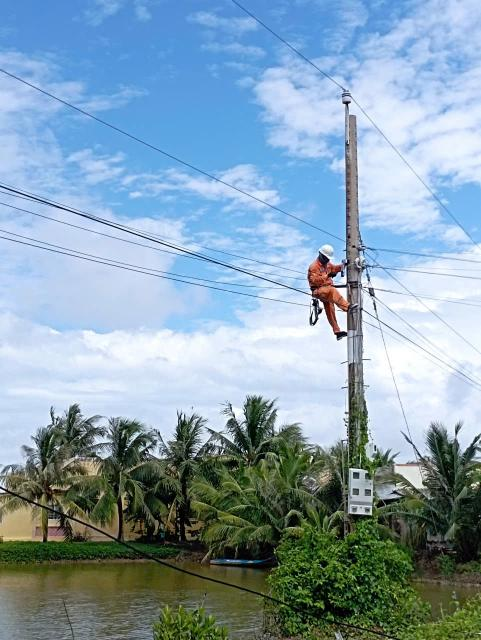gloves: (328, 271, 339, 279)
harness: (306, 282, 343, 292)
helmet: (317, 244, 337, 261)
shoes: (328, 328, 353, 344), (344, 304, 361, 313)
